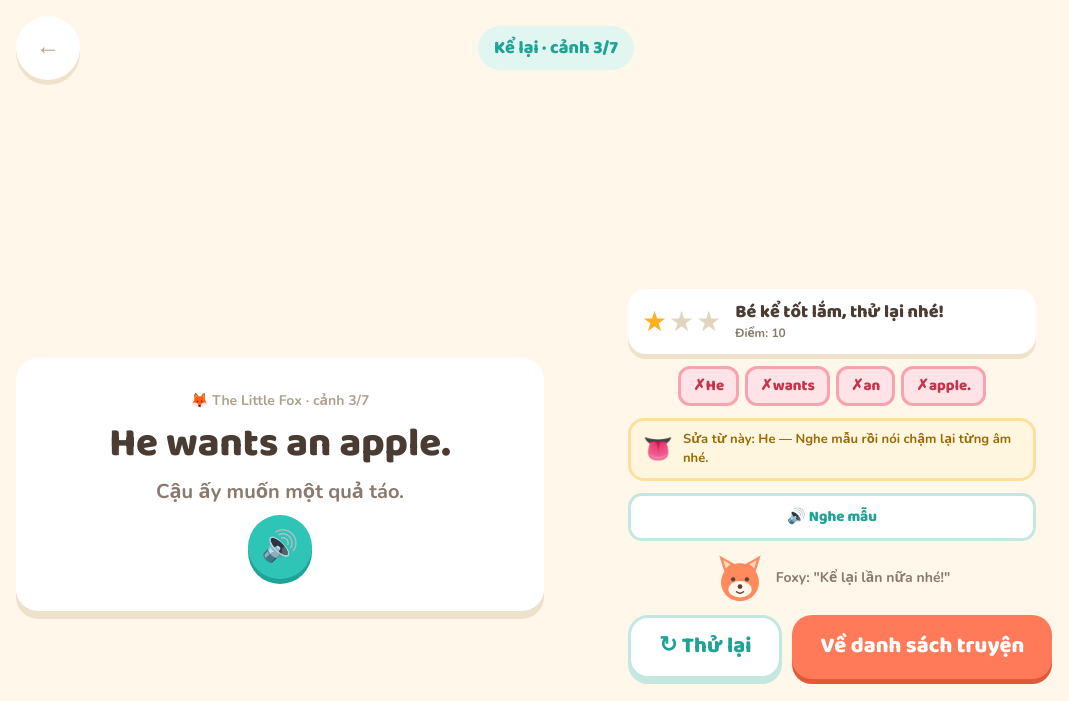
Test: reopens the teach card on retry
Click the button "↻ Thử lại": coordinates (705, 647) 628,615 -> 782,679
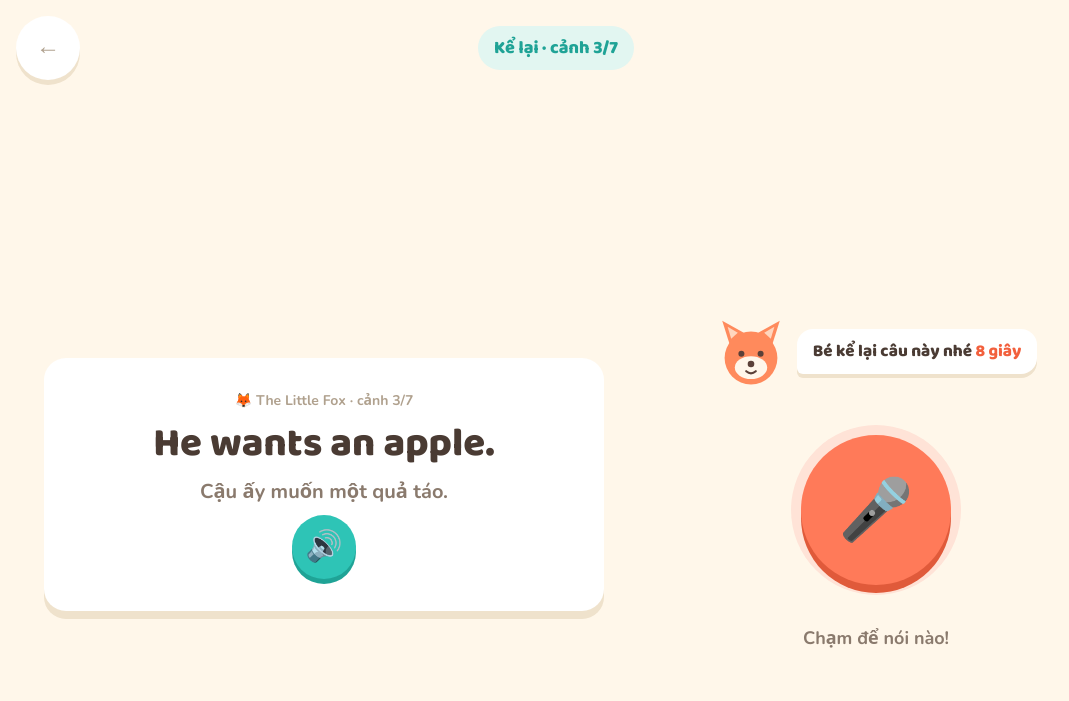
Check: the text "He wants an apple." is shown, box 153,418 -> 495,468
Check: the button named "bấm để nói" is shown, box 801,434 -> 951,584
